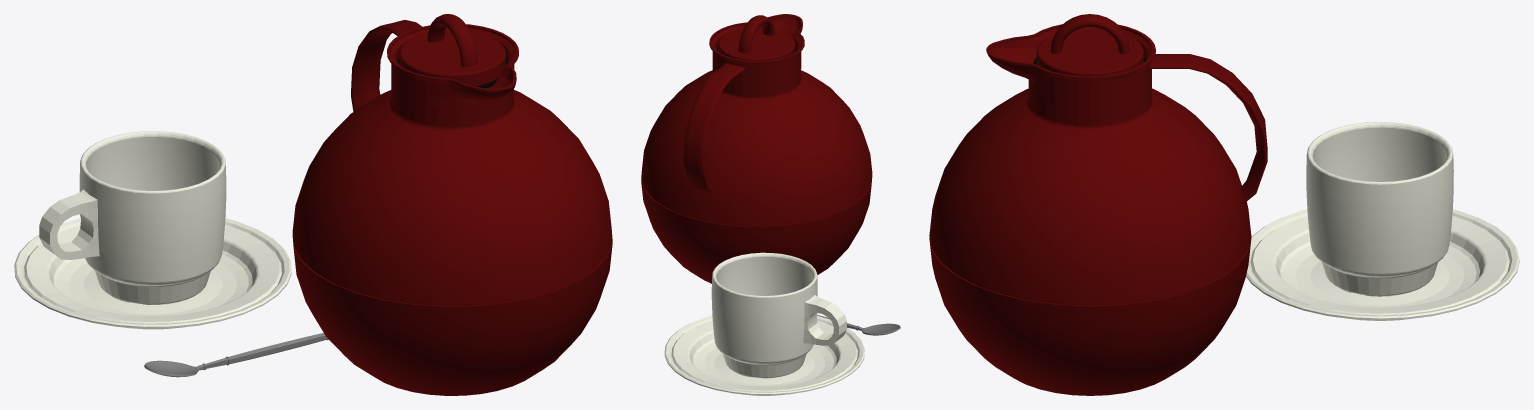
Rendered from coffeepot.FBX.
The picture shows the model from 3 angles, left to right: view 1: azimuth 30°, elevation 25°; view 2: azimuth 150°, elevation 25°; view 3: azimuth 270°, elevation 25°; orthographic projection. The views are drawn at different scales.
Visible parts, largest first — view 1: coffeepot, coffeecup, coffeplate, coffeepot capsel, coffeespoon; view 2: coffeepot, coffeecup, coffeplate, coffeepot capsel, coffeespoon; view 3: coffeepot, coffeecup, coffeplate, coffeepot capsel.
Part boxes in pixels (x1,y1,x2,y2): coffeepot: (292,20,612,395); coffeecup: (39,131,226,304); coffeplate: (14,218,291,329); coffeepot capsel: (397,14,508,88); coffeespoon: (144,333,328,377); coffeepot: (641,14,872,283); coffeecup: (711,252,846,378); coffeplate: (664,315,864,395); coffeepot capsel: (716,15,796,61); coffeespoon: (817,315,900,335); coffeepot: (929,24,1267,395); coffeecup: (1306,122,1453,296); coffeplate: (1246,209,1519,320); coffeepot capsel: (1033,14,1145,76).
Bounding box in the file's own units: 32.03 × 39.34 × 25.61.
